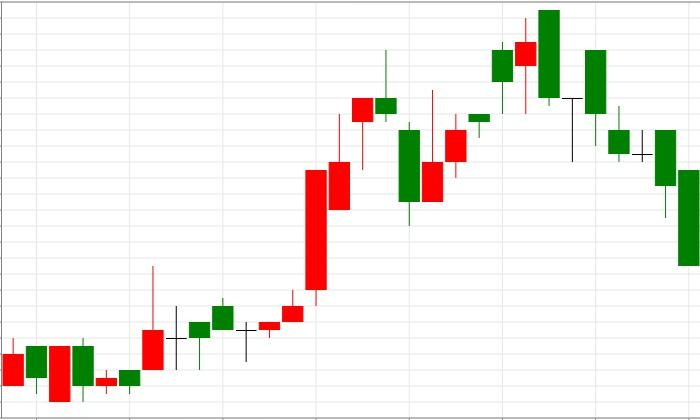hanging_man_fall: (236, 97, 374, 362)
